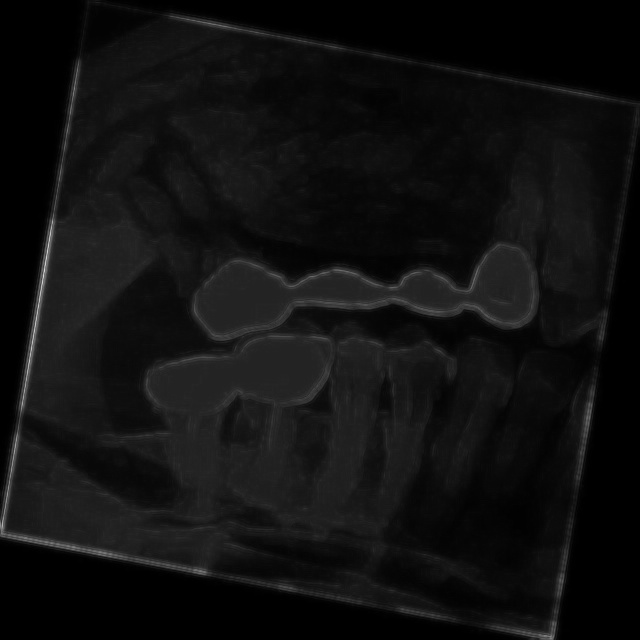Class 2- incomplete endodontic treatment: (66, 72, 349, 348), (105, 324, 258, 522), (216, 319, 353, 514)
cavity: (446, 122, 579, 340)
